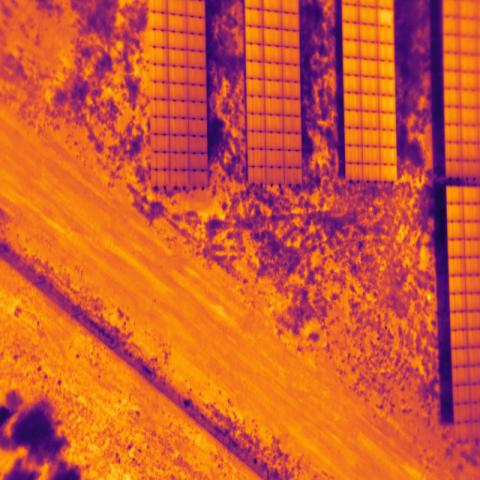fault: (379, 8, 393, 27)
